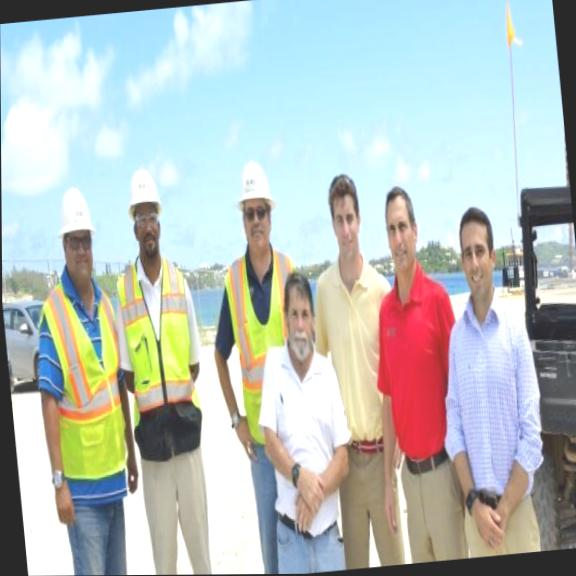no_safety_vest: (444, 289, 535, 468), (375, 268, 456, 455), (317, 255, 389, 431), (270, 363, 342, 519)
safety_vest: (42, 285, 129, 497), (214, 242, 296, 449), (119, 271, 203, 448)
